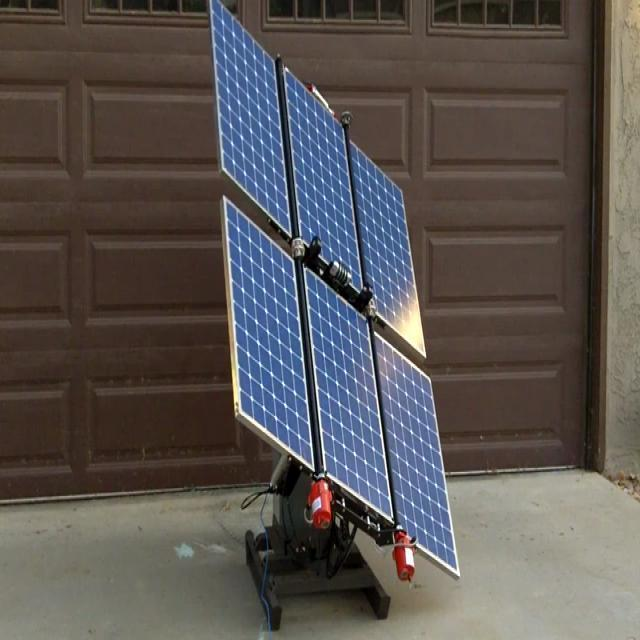Normal Solar Panel: (223, 197, 313, 469), (305, 268, 393, 520), (377, 333, 459, 579), (211, 0, 290, 235), (284, 69, 362, 288), (351, 141, 425, 357)
